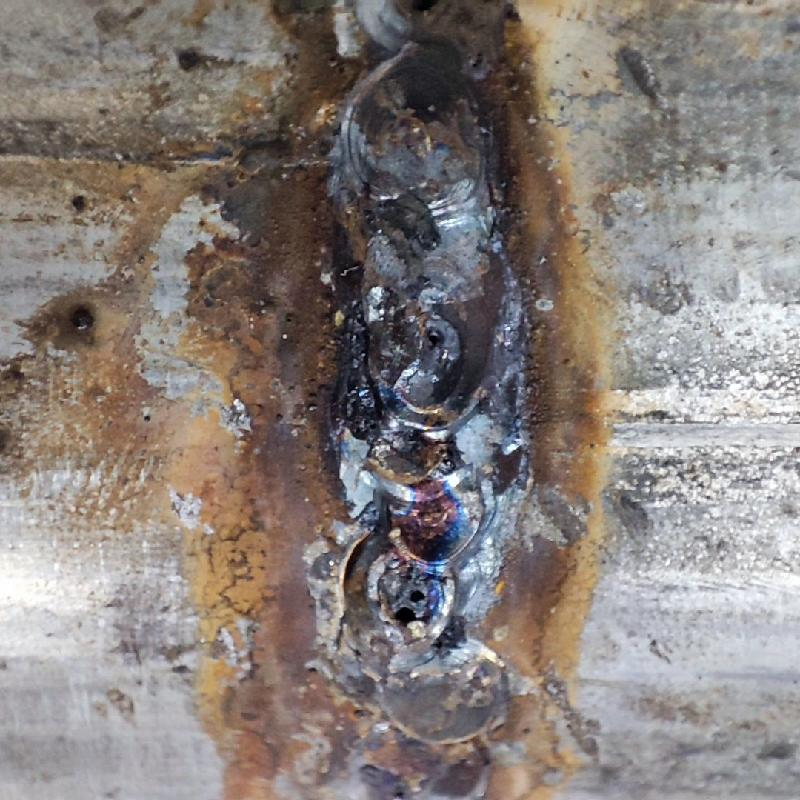Surface_pores: (380, 565, 443, 643), (413, 312, 455, 360)
